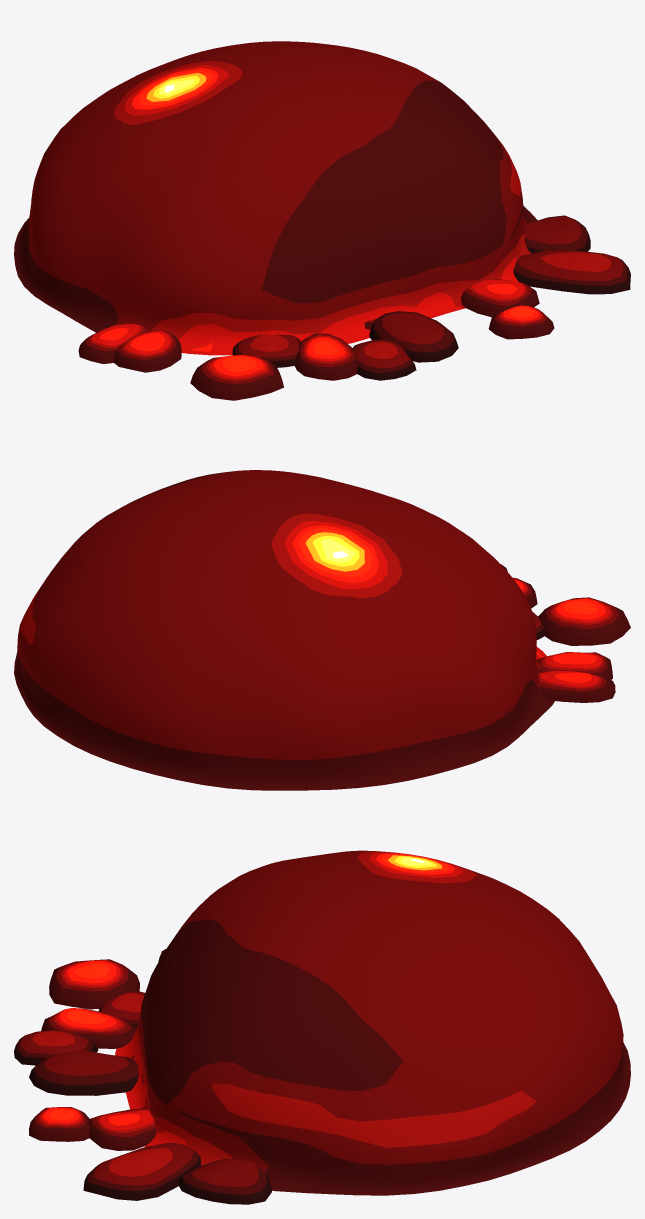
The model's file is lava_bubble.glb.
The picture shows the model from 3 angles, top to bottom: view 1: azimuth 30°, elevation 25°; view 2: azimuth 150°, elevation 25°; view 3: azimuth 270°, elevation 25°; orthographic projection. The views are drawn at different scales.
Parts seen in each view (by area): view 1: dome, splash3, splash6, splash8, splash7, splash1, splash5, splash2, splash10, splash9, splash4, splash0; view 2: dome, splash6, splash0, splash1; view 3: dome, splash3, splash8, splash6, splash2, splash7, splash5, splash10, splash9, splash4.
Boxes of the visible parts, bbox=[...] form: dome: bbox=[14, 41, 537, 355]; splash3: bbox=[513, 250, 630, 294]; splash6: bbox=[190, 354, 283, 400]; splash8: bbox=[369, 311, 458, 362]; splash7: bbox=[294, 333, 357, 380]; splash1: bbox=[113, 330, 181, 372]; splash5: bbox=[461, 279, 539, 317]; splash2: bbox=[524, 215, 590, 253]; splash10: bbox=[353, 339, 416, 380]; splash9: bbox=[488, 305, 554, 339]; splash4: bbox=[232, 334, 300, 367]; splash0: bbox=[78, 323, 149, 363]; dome: bbox=[14, 470, 554, 790]; splash6: bbox=[538, 597, 630, 645]; splash0: bbox=[539, 671, 615, 702]; splash1: bbox=[536, 652, 612, 679]; dome: bbox=[115, 850, 630, 1195]; splash3: bbox=[83, 1142, 200, 1200]; splash8: bbox=[29, 1050, 138, 1095]; splash6: bbox=[49, 959, 139, 1009]; splash2: bbox=[179, 1158, 271, 1204]; splash7: bbox=[41, 1008, 136, 1048]; splash5: bbox=[88, 1108, 156, 1150]; splash10: bbox=[14, 1030, 98, 1065]; splash9: bbox=[29, 1107, 89, 1141]; splash4: bbox=[98, 991, 145, 1027].
Bounding box in the file's own units: 24.23 × 10.9 × 23.86.
